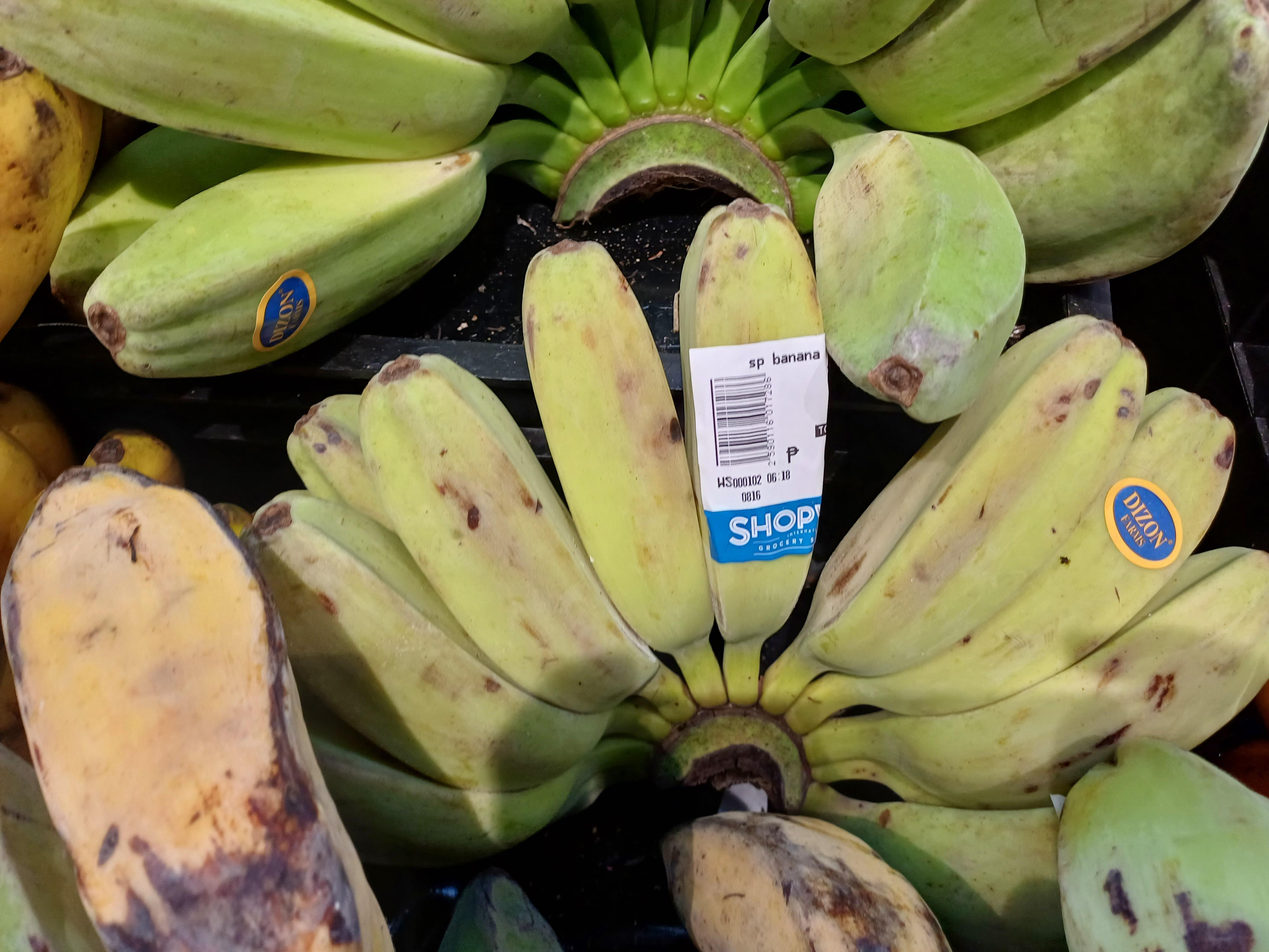underripe: (248, 200, 828, 865), (802, 315, 1269, 948), (0, 0, 574, 377), (771, 0, 1269, 422)
